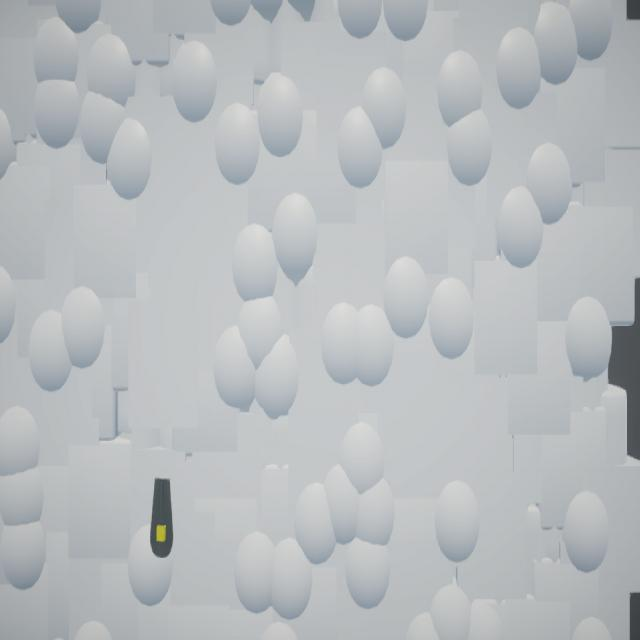handle_folk: (151, 479, 174, 559)
